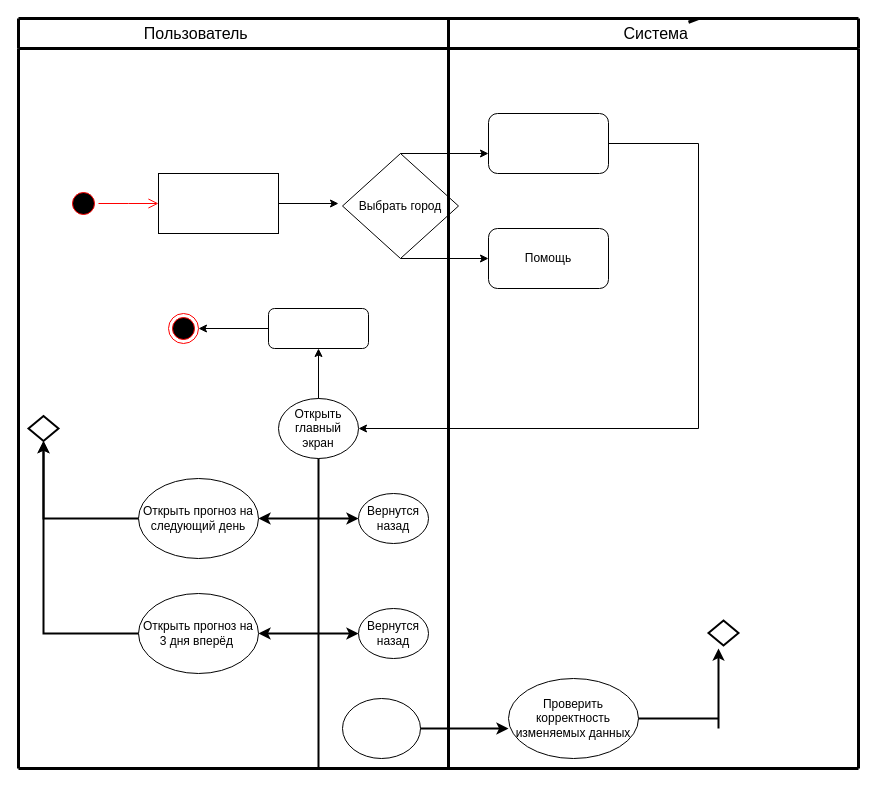
Image size: 878x789. Some labels were removed from this diagram. Each missing label, with the box of its shape:
Закрыть приложение: (268, 308, 368, 348)
Запустить прогноз погоды: (158, 172, 278, 234)
Проверка города из выпадающего списка: (488, 112, 608, 174)
Сменить тему: (342, 698, 420, 758)
